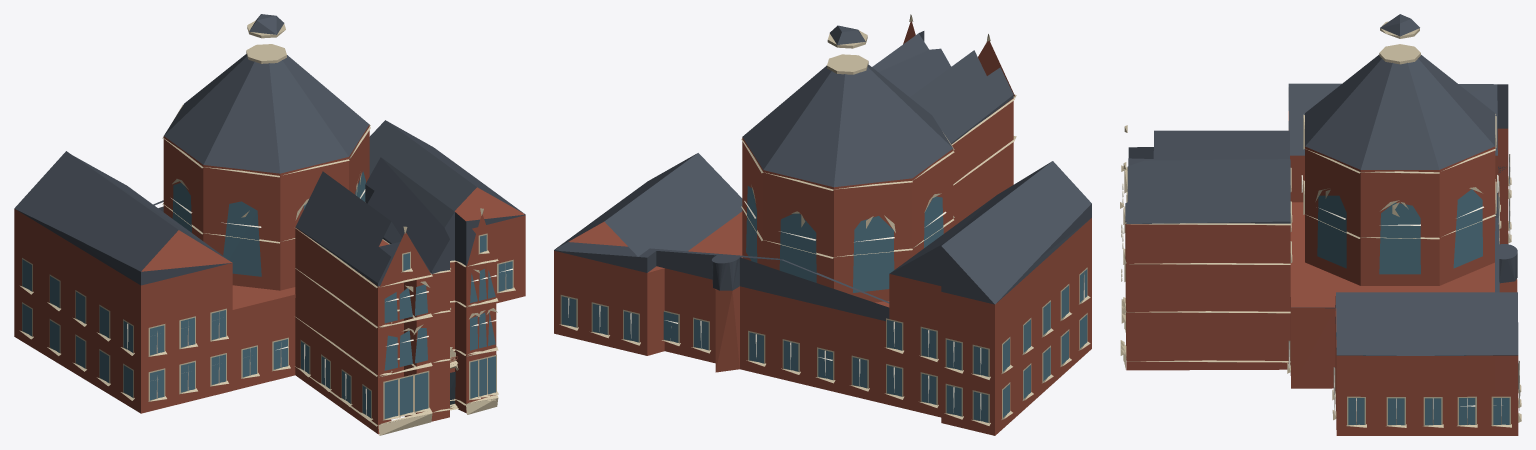
Rendered from amsterdam-dungeon.lod1.glb.
3 renders of one model, left to right at view 1: azimuth 30°, elevation 25°; view 2: azimuth 150°, elevation 25°; view 3: azimuth 270°, elevation 25°, orthographic. The views are drawn at different scales.
Visible parts, largest first — view 1: amsterdam-dungeon; view 2: amsterdam-dungeon; view 3: amsterdam-dungeon.
Part boxes in pixels (left/top/right/bottom): amsterdam-dungeon: left=14, top=14, right=525, bottom=435; amsterdam-dungeon: left=554, top=14, right=1091, bottom=435; amsterdam-dungeon: left=1120, top=14, right=1521, bottom=435.
Bounding box in the file's own units: 40.66 × 27.95 × 33.1.
